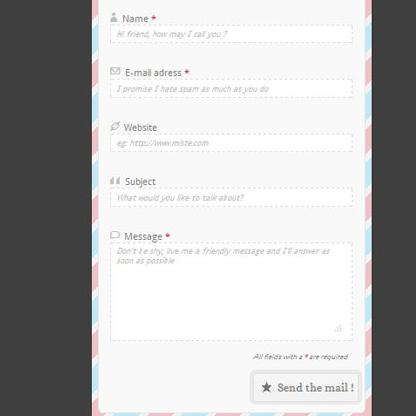button: (248, 368, 363, 405)
field: (106, 240, 354, 343), (110, 22, 355, 45), (107, 76, 353, 98), (108, 131, 354, 153), (108, 186, 354, 208)
